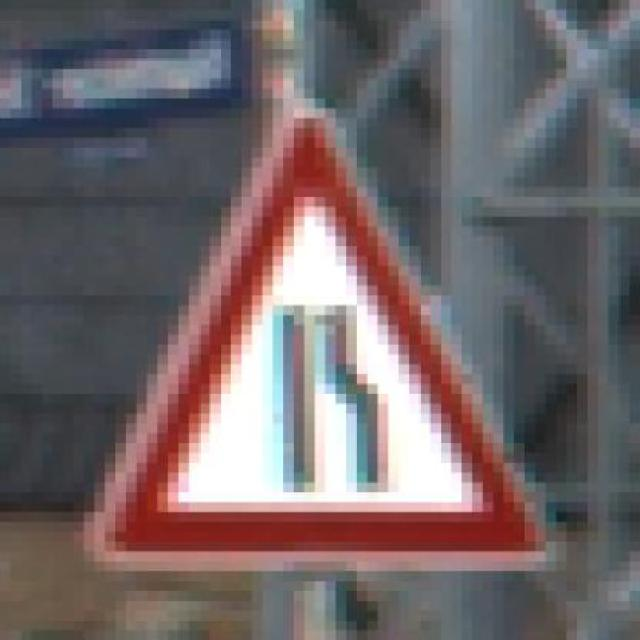-Road narrows on right: (52, 99, 566, 582)
